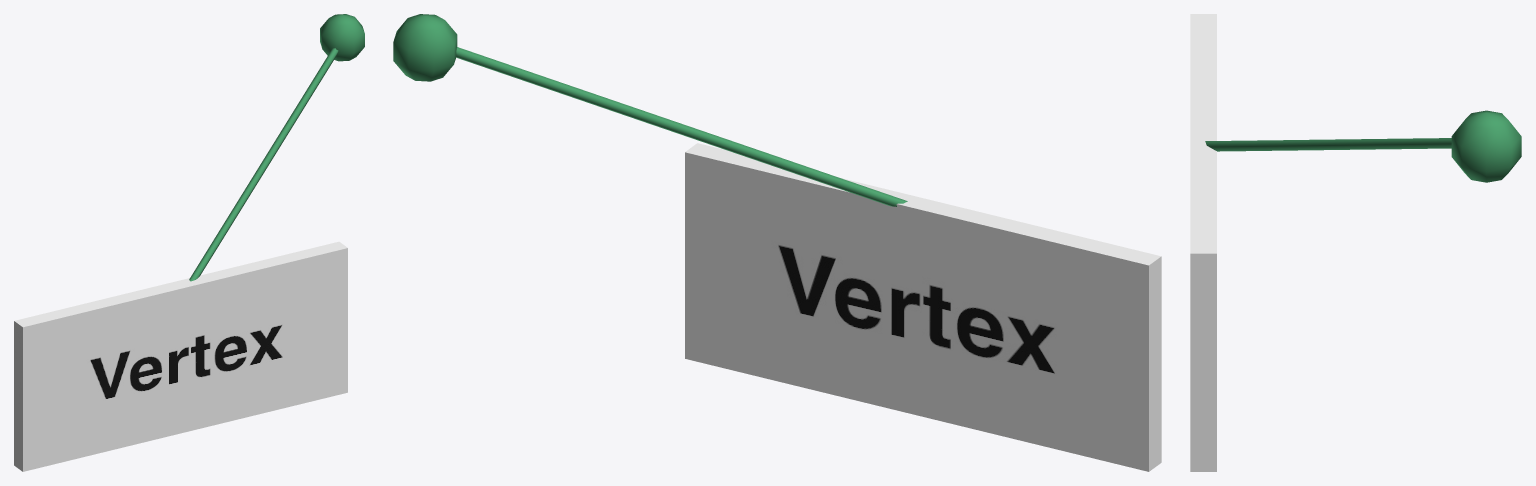
The model's file is concept_polygon.glb.
The picture shows the model from 3 angles, left to right: view 1: azimuth 30°, elevation 25°; view 2: azimuth 150°, elevation 25°; view 3: azimuth 270°, elevation 25°; orthographic projection. The views are drawn at different scales.
Visible parts, largest first — view 1: info_vertex, line, vert; view 2: info_vertex, line, vert; view 3: info_vertex, vert, line.
Boxes of the visible parts, <box> form: info_vertex: <box>14,241,347,471</box>; line: <box>189,48,338,281</box>; vert: <box>320,14,364,61</box>; info_vertex: <box>685,143,1161,471</box>; line: <box>456,47,907,206</box>; vert: <box>393,14,457,81</box>; info_vertex: <box>1190,14,1216,471</box>; vert: <box>1451,110,1521,182</box>; line: <box>1205,138,1451,151</box>.
Size of what is drawn, in the model's own units: 93.24 by 57.54 by 40.46.
Materials: 2 (1 with a texture image).
